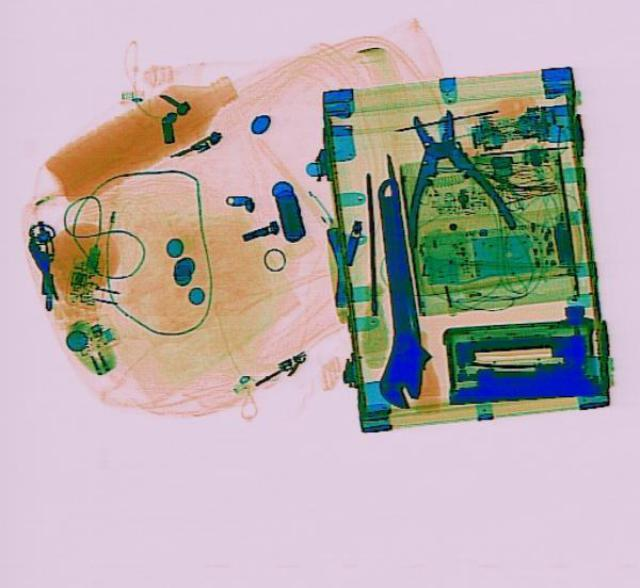Pliers: (378, 103, 518, 246)
Wrench: (352, 174, 434, 410)
